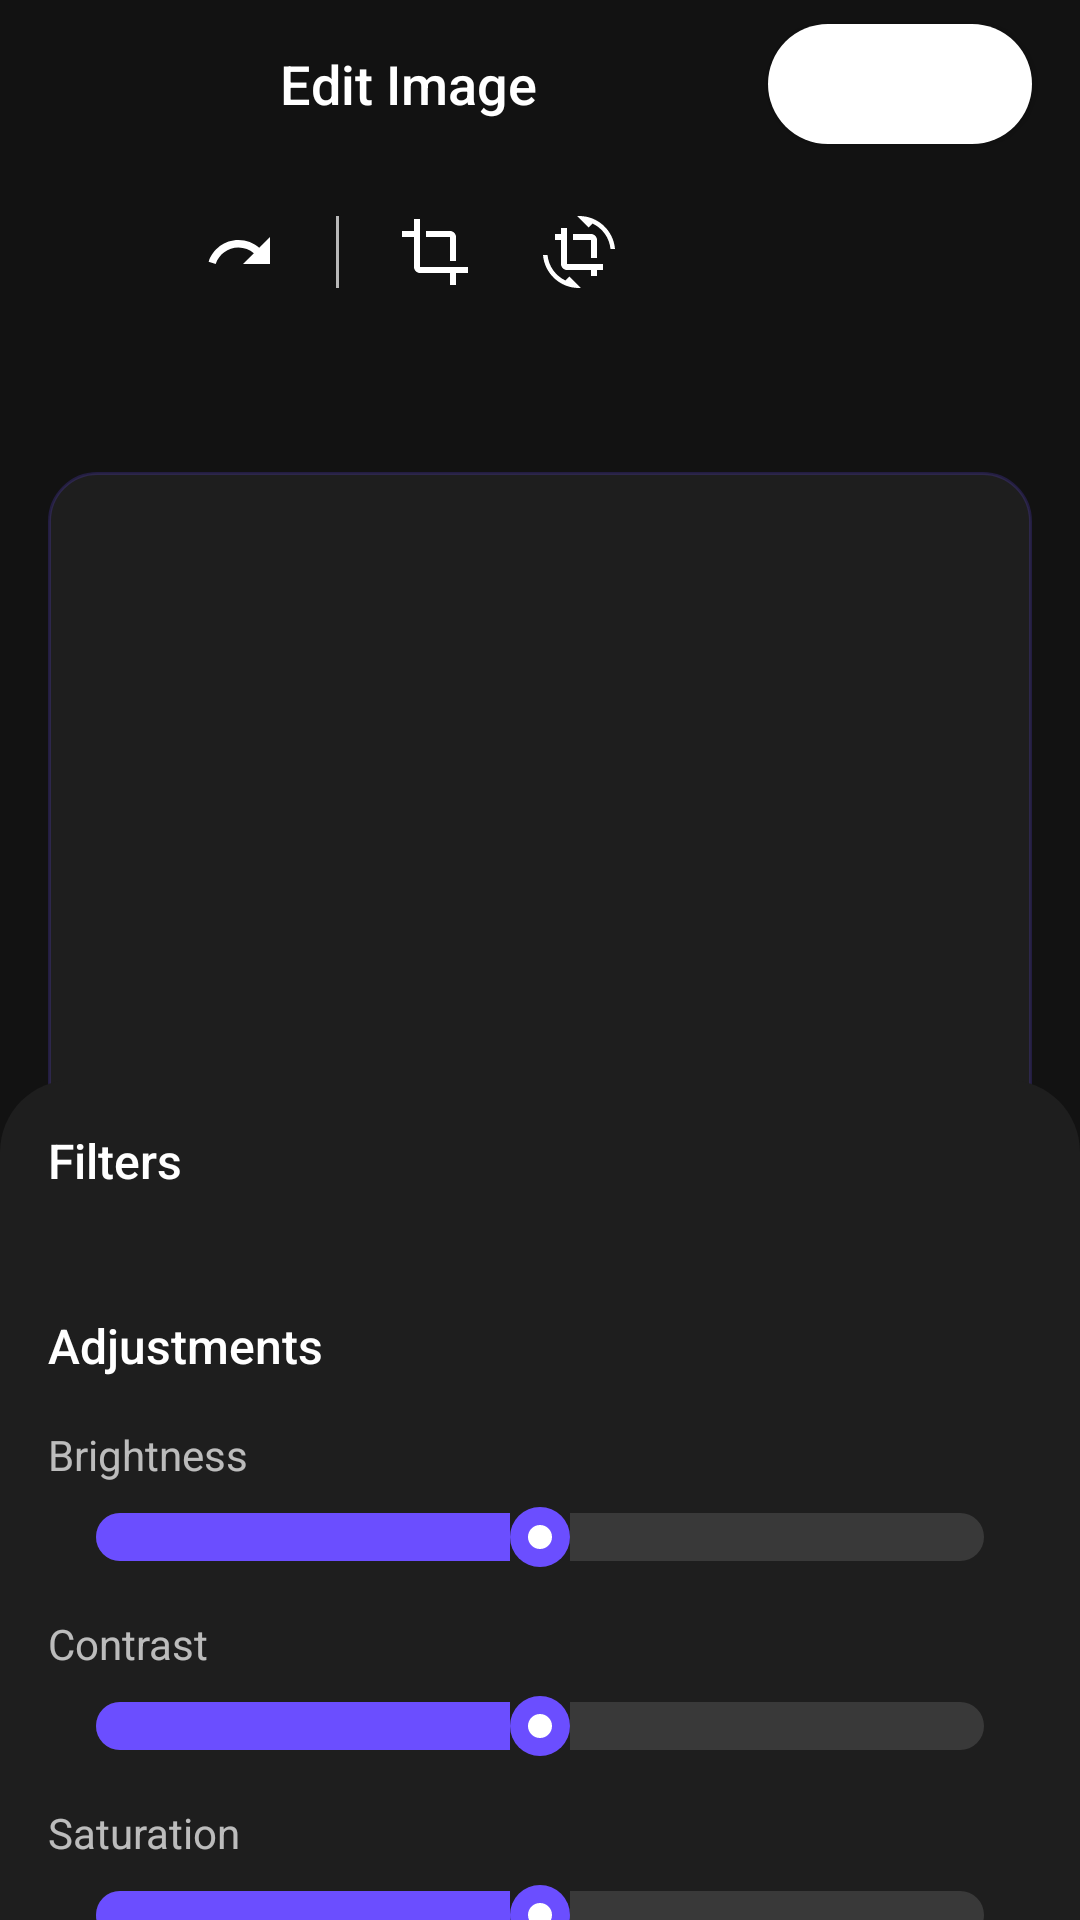

Icon bounding boxes for this 1080 x 1920 phone screenshot, format bbox(x1, y1, x2, y2):
crop: bbox(402, 219, 468, 285)
redo: bbox(208, 237, 270, 264)
rotate: bbox(543, 216, 615, 288)
